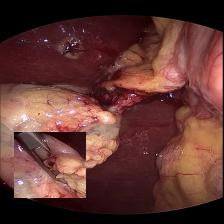Grasper: (15, 131, 86, 196)
